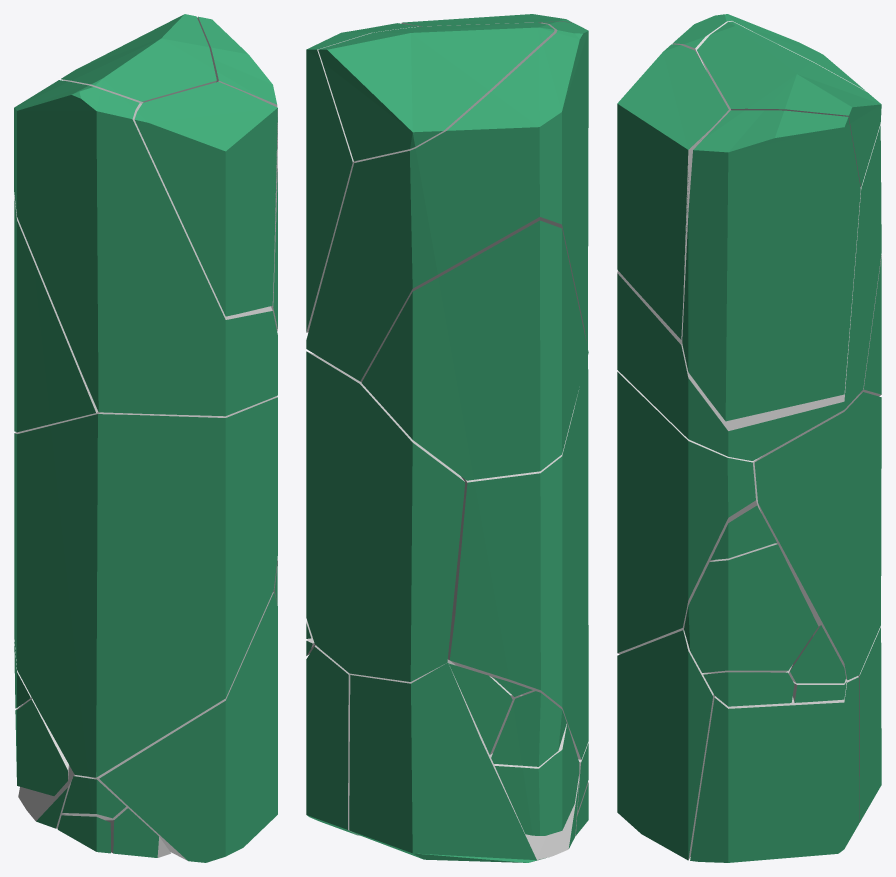
Rendered from hexB7.fbx.
3 renders of one model, left to right at view 1: azimuth 30°, elevation 25°; view 2: azimuth 150°, elevation 25°; view 3: azimuth 270°, elevation 25°, orthographic. The views are drawn at different scales.
Visible parts, largest first — view 1: Cr_Hex_CD_Cracked_M.002; view 2: Cr_Hex_CD_Cracked_M.002; view 3: Cr_Hex_CD_Cracked_M.002.
Part boxes in pixels (x1,y1,x2,y2): Cr_Hex_CD_Cracked_M.002: (14,14,277,862); Cr_Hex_CD_Cracked_M.002: (306,14,588,862); Cr_Hex_CD_Cracked_M.002: (617,14,881,862).
Bounding box in the file's own units: 0.0265 × 0.0869 × 0.0273.
